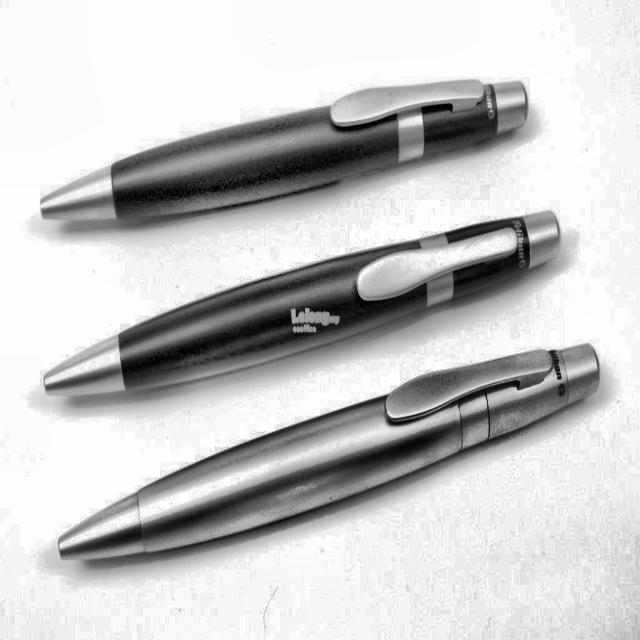Pen: (56, 342, 600, 560), (44, 208, 563, 398), (38, 77, 528, 222)
